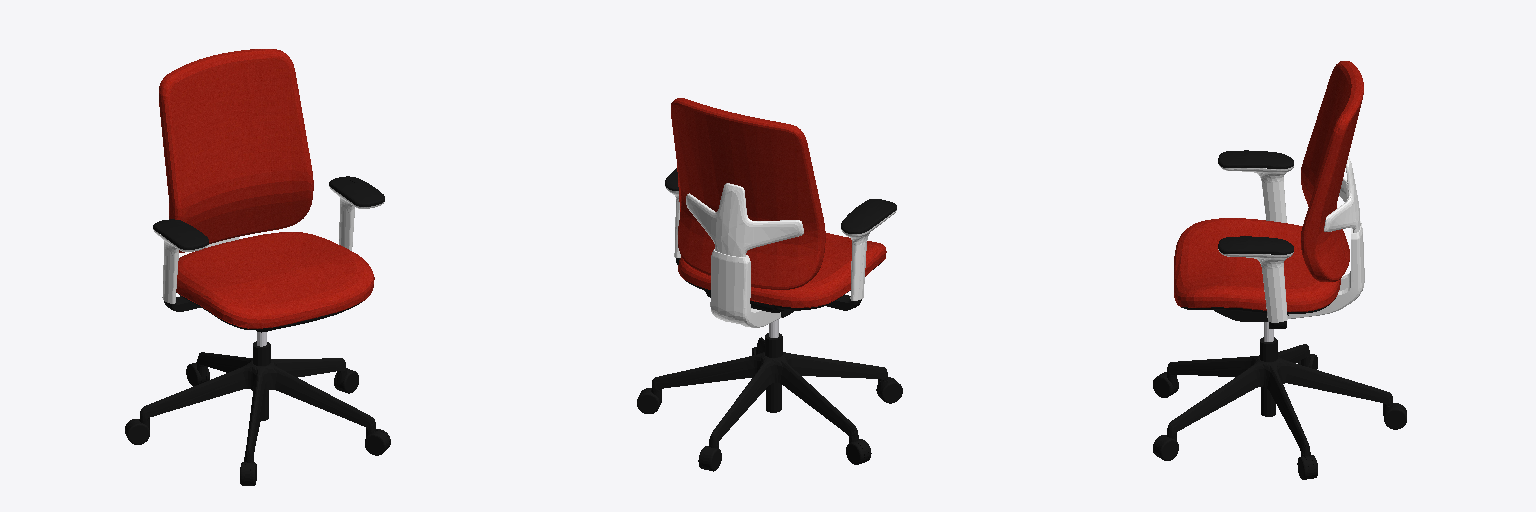
The picture shows the model from 3 angles: view 1: azimuth 30°, elevation 25°; view 2: azimuth 150°, elevation 25°; view 3: azimuth 270°, elevation 25°; orthographic projection.
Visible parts, largest first — view 1: Mesh2 SEREN_HBA1 Model, Mesh1 SEREN_HBA1 Model, Mesh4 SEREN_HBA1 Model, Mesh5 SEREN_HBA1 Model, Mesh6 SEREN_HBA1 Model, Mesh3 SEREN_HBA1 Model; view 2: Mesh2 SEREN_HBA1 Model, Mesh4 SEREN_HBA1 Model, Mesh3 SEREN_HBA1 Model, Mesh1 SEREN_HBA1 Model, Mesh5 SEREN_HBA1 Model; view 3: Mesh1 SEREN_HBA1 Model, Mesh4 SEREN_HBA1 Model, Mesh2 SEREN_HBA1 Model, Mesh3 SEREN_HBA1 Model, Mesh6 SEREN_HBA1 Model, Mesh5 SEREN_HBA1 Model.
Part boxes in pixels (x1,y1,x2,y2): Mesh2 SEREN_HBA1 Model: (159,49,313,252); Mesh1 SEREN_HBA1 Model: (176,232,374,330); Mesh4 SEREN_HBA1 Model: (125,352,390,485); Mesh5 SEREN_HBA1 Model: (153,219,208,303); Mesh6 SEREN_HBA1 Model: (329,176,384,250); Mesh3 SEREN_HBA1 Model: (206,237,270,420); Mesh2 SEREN_HBA1 Model: (671,98,825,289); Mesh4 SEREN_HBA1 Model: (637,337,902,471); Mesh3 SEREN_HBA1 Model: (686,183,803,412); Mesh1 SEREN_HBA1 Model: (678,233,886,312); Mesh5 SEREN_HBA1 Model: (841,199,896,300); Mesh1 SEREN_HBA1 Model: (1174,218,1340,313); Mesh4 SEREN_HBA1 Model: (1153,344,1406,479); Mesh2 SEREN_HBA1 Model: (1301,61,1363,281); Mesh3 SEREN_HBA1 Model: (1214,157,1364,416); Mesh6 SEREN_HBA1 Model: (1218,236,1293,322); Mesh5 SEREN_HBA1 Model: (1218,150,1293,222).
Size of the model in its own units: 29.05 by 40.97 by 27.66.
7 materials, 2 textured.